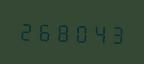eight: (54, 19, 71, 43)
four: (90, 20, 107, 45)
six: (35, 18, 52, 43)
three: (108, 21, 125, 45)
two: (17, 18, 34, 42)
zero: (72, 20, 89, 44)
